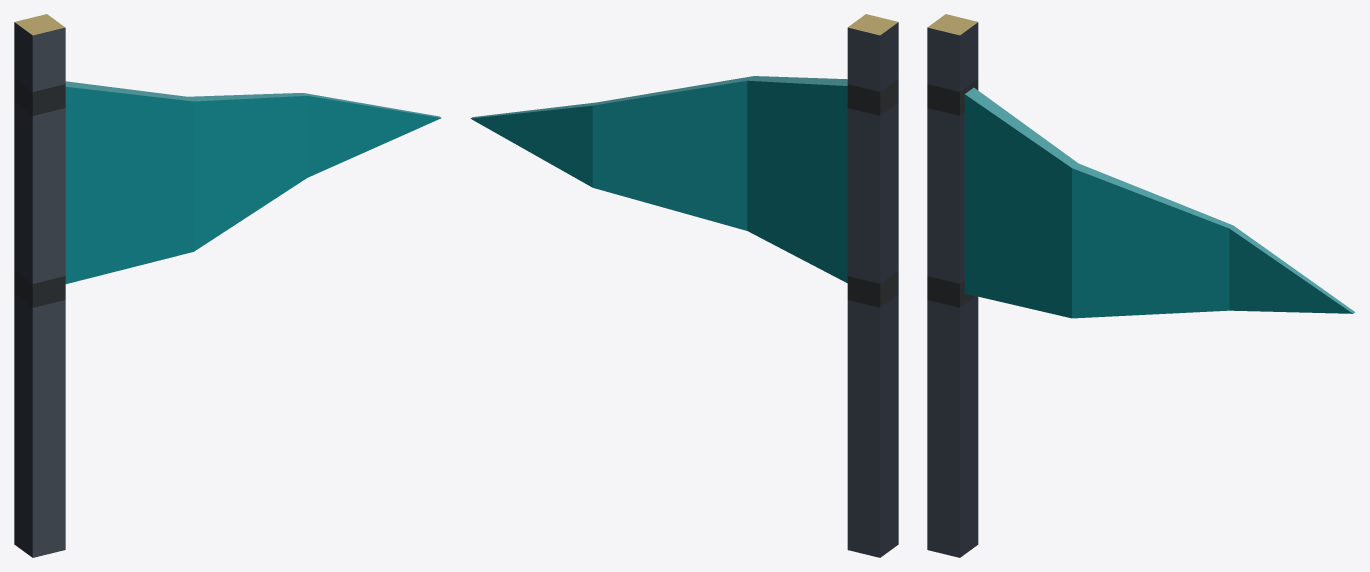
The model's file is TB_D_Prop_Flag_C.FBX.
3 views of the same model, side by side, from view 1: azimuth 30°, elevation 25°; view 2: azimuth 150°, elevation 25°; view 3: azimuth 330°, elevation 25° (orthographic).
Visible parts, largest first — view 1: TB_D_Prop_Flag_C; view 2: TB_D_Prop_Flag_C; view 3: TB_D_Prop_Flag_C.
Part boxes in pixels (<box>): TB_D_Prop_Flag_C: <box>14,14,441,557</box>; TB_D_Prop_Flag_C: <box>470,14,898,557</box>; TB_D_Prop_Flag_C: <box>927,14,1355,557</box>.
Bounding box in the file's own units: 2.19 × 2.62 × 0.2422.
